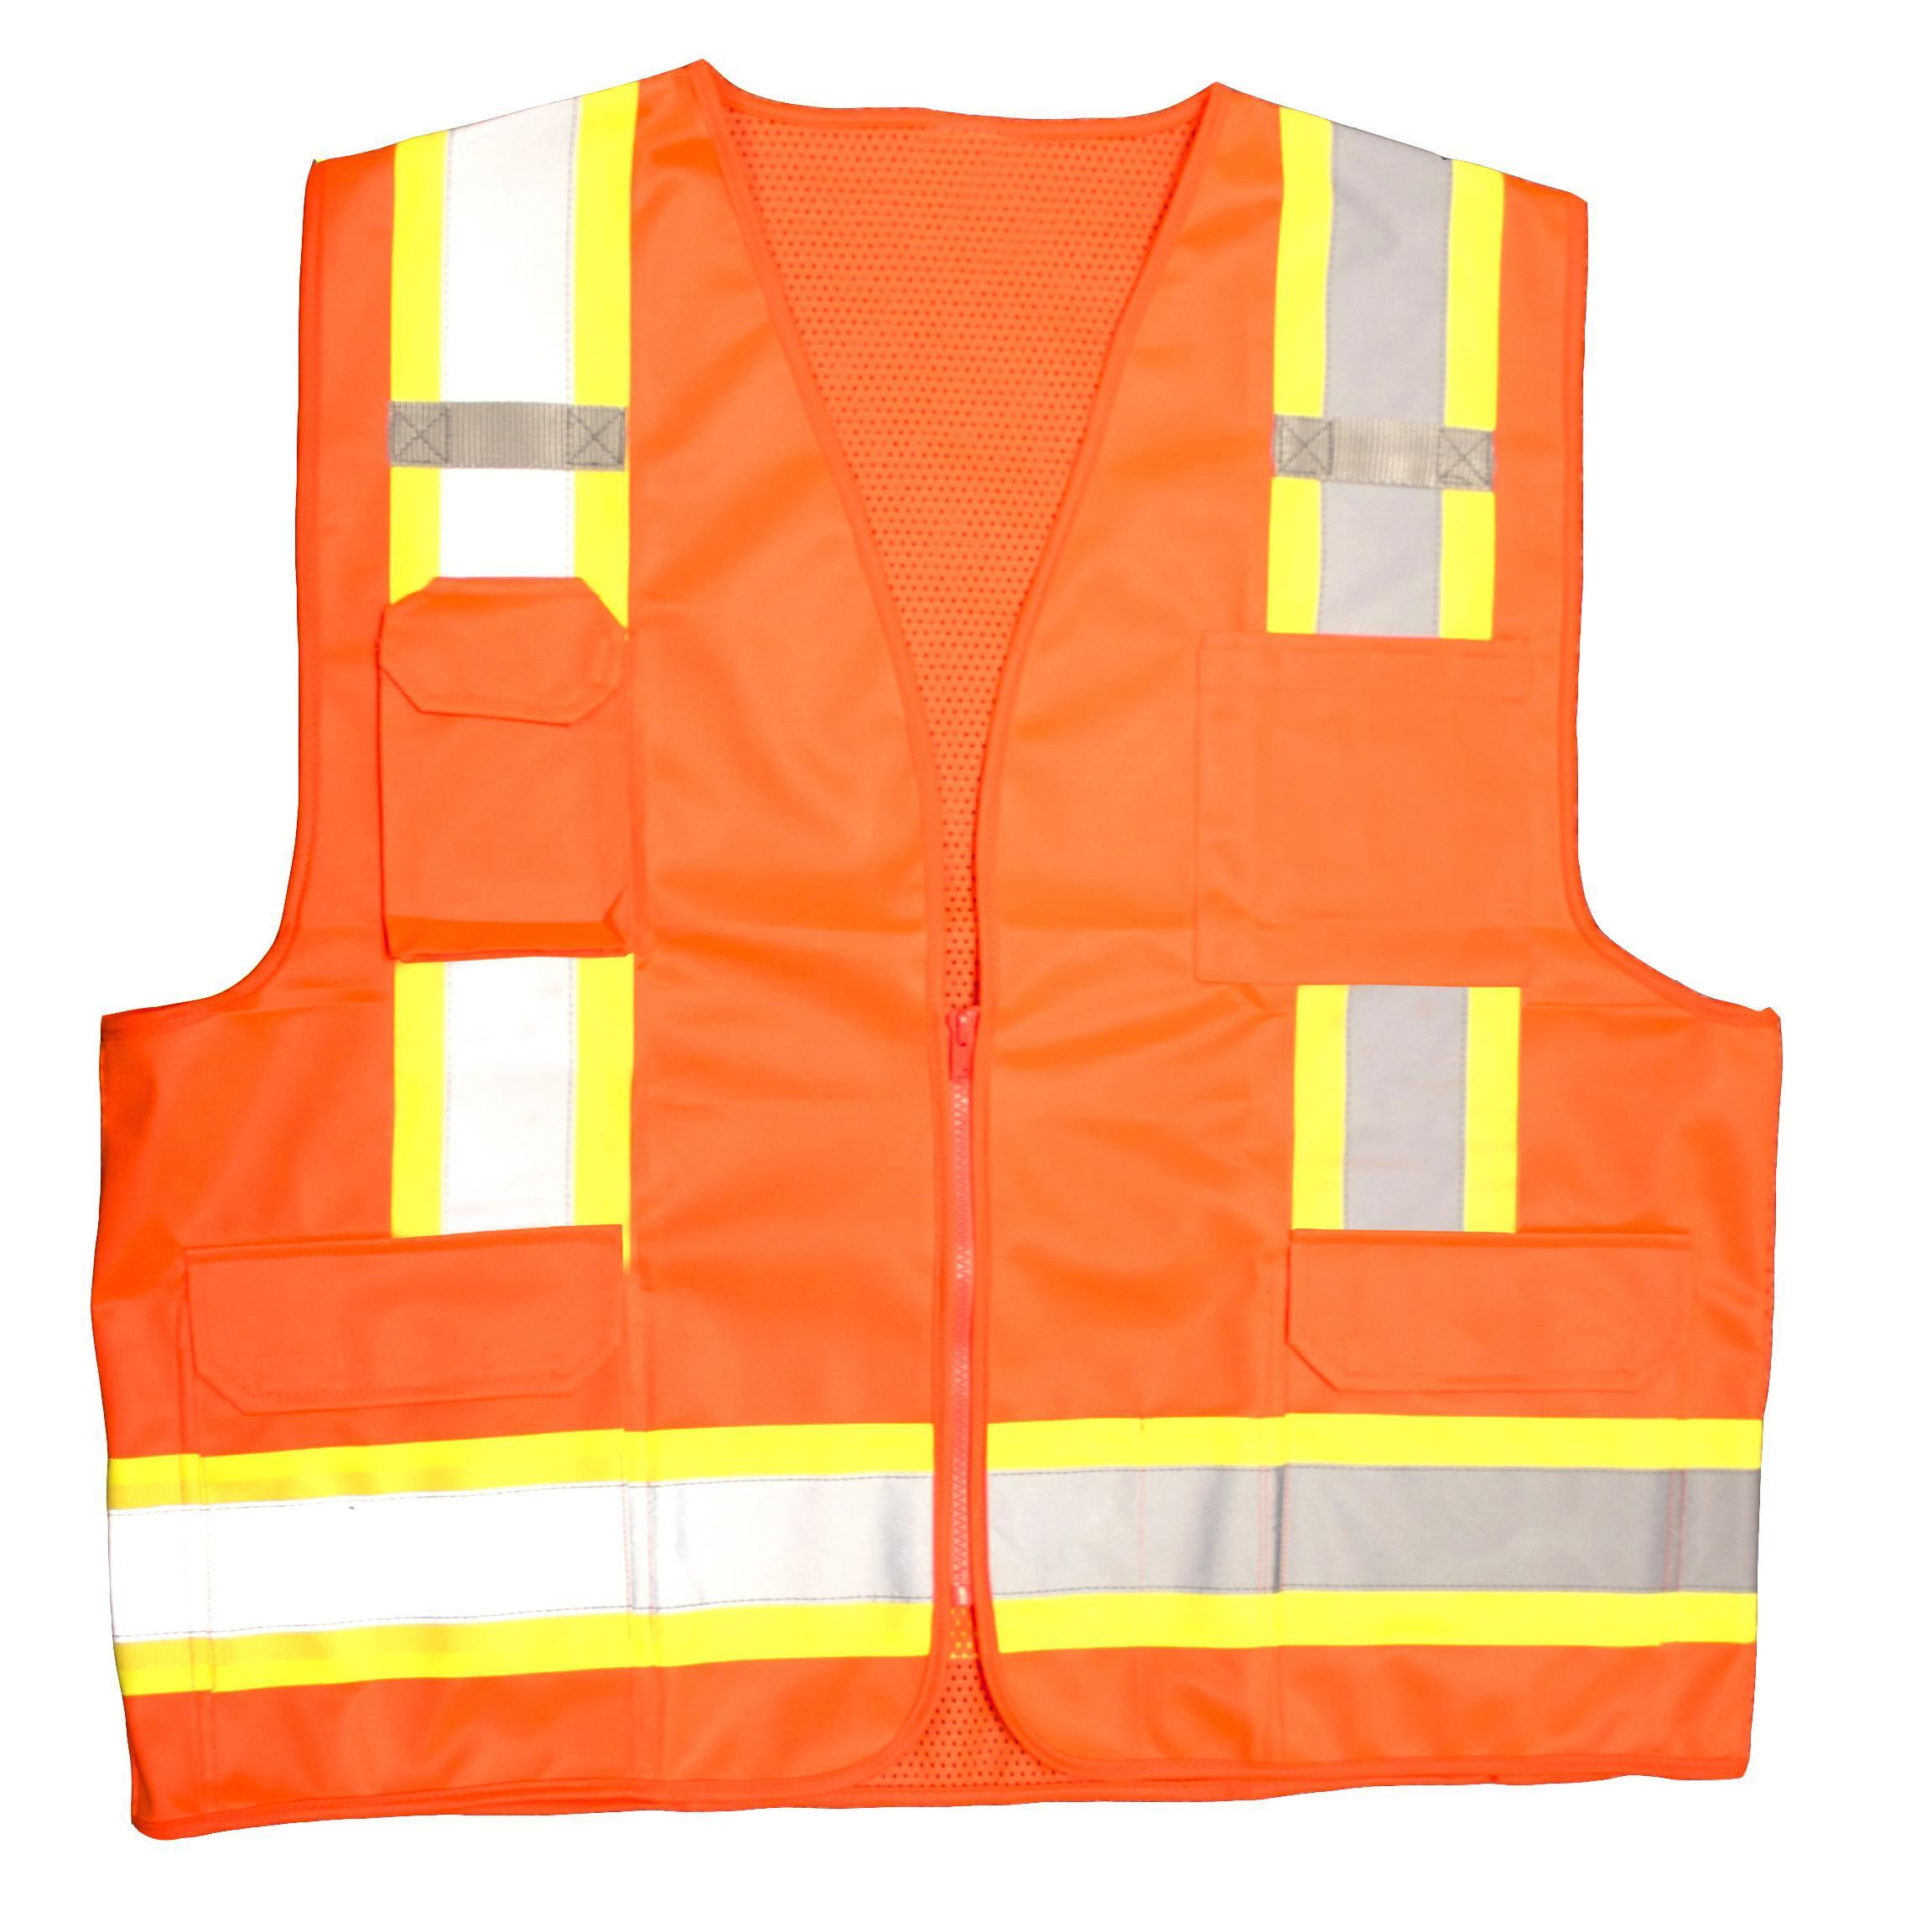vest: (88, 55, 1783, 1847)
